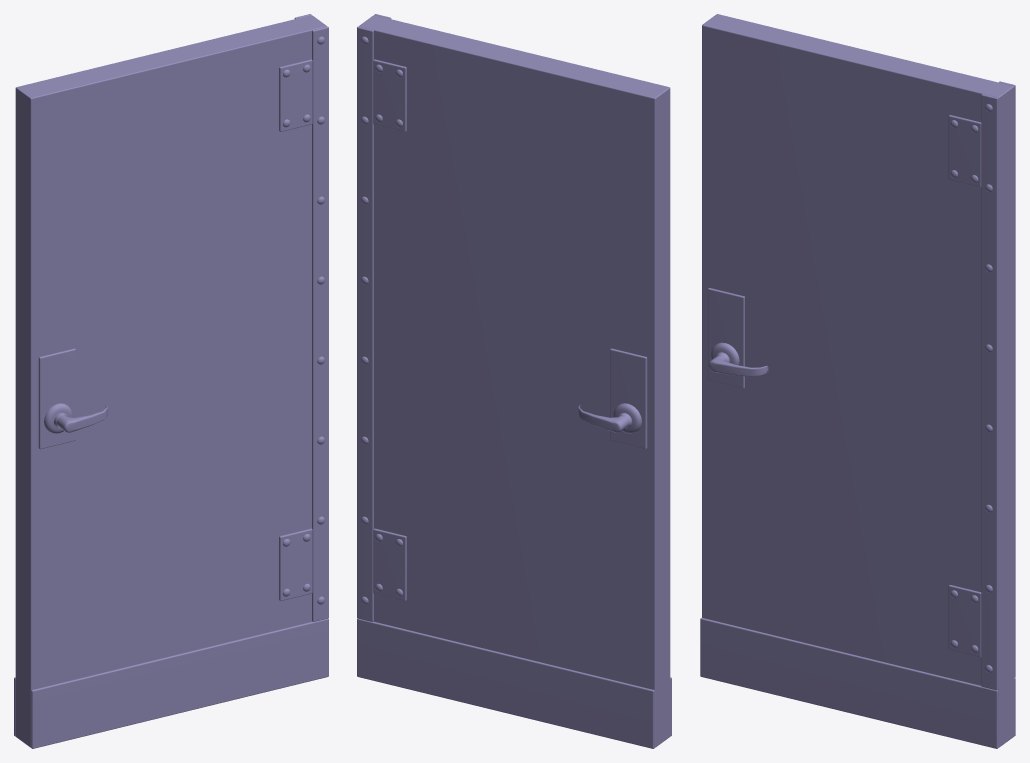
File: door_04_high.fbx
3 renders of one model, left to right at view 1: azimuth 30°, elevation 25°; view 2: azimuth 150°, elevation 25°; view 3: azimuth 330°, elevation 25°, orthographic.
Visible parts, largest first — view 1: Box018; view 2: Box018; view 3: Box018.
Part boxes in pixels (x1,y1,x2,y2): Box018: (14,14,328,748); Box018: (357,14,671,748); Box018: (700,14,1015,748).
Bounding box in the file's own units: 44 × 92 × 11.29.
